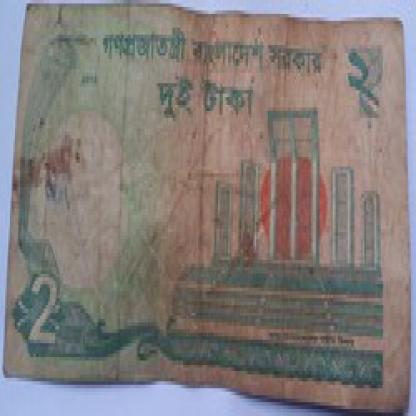two taka: (18, 256, 60, 360), (345, 42, 376, 121)
